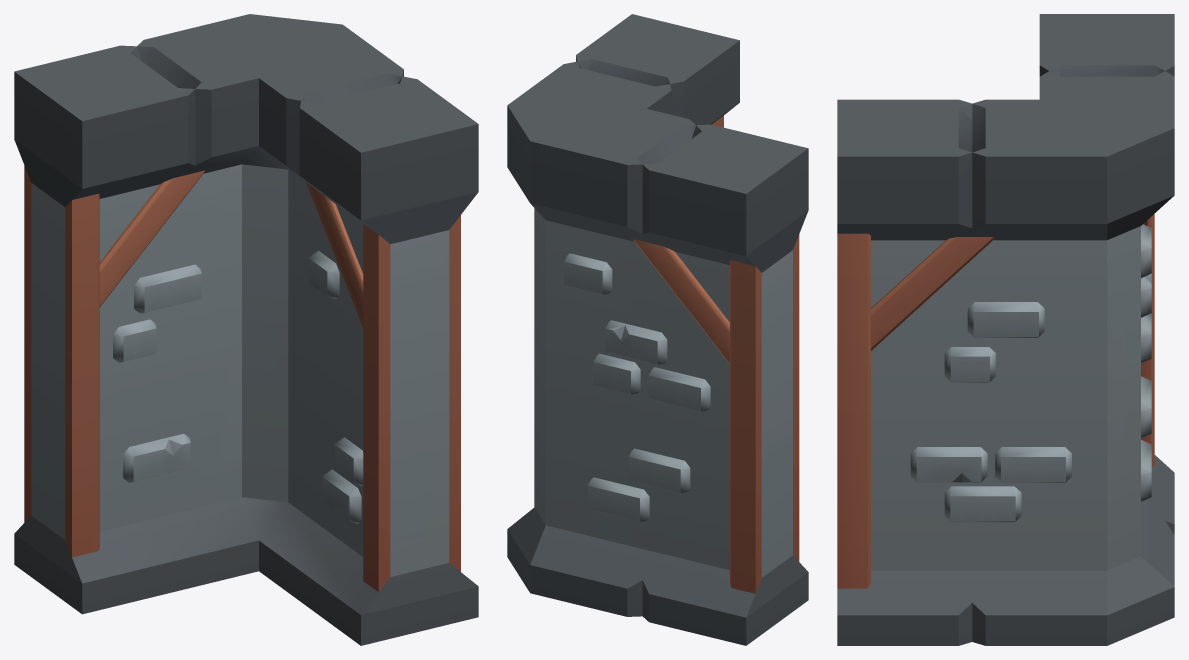
File: wall-corner.glb
3 renders of one model, left to right at view 1: azimuth 30°, elevation 25°; view 2: azimuth 150°, elevation 25°; view 3: azimuth 270°, elevation 25°, orthographic. The views are drawn at different scales.
Visible parts, largest first — view 1: wall_corner_scaffold; view 2: wall_corner_scaffold; view 3: wall_corner_scaffold.
Boxes of the visible parts, x1,y1,x2,y2 form: wall_corner_scaffold: (14,14,478,645); wall_corner_scaffold: (507,14,808,645); wall_corner_scaffold: (837,14,1174,645).
Bounding box in the file's own units: 2.5 × 4 × 2.5.
Materials: 1 (1 with a texture image).
